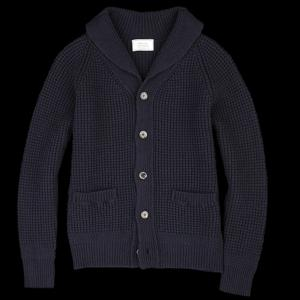C_cardigan sweater: (16, 12, 273, 293)
